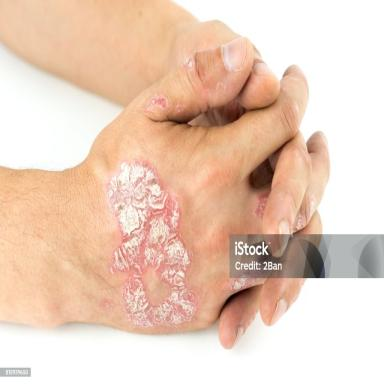Psoriasis: (106, 156, 199, 328), (145, 93, 169, 111), (253, 194, 268, 220), (231, 278, 257, 291), (174, 103, 186, 117), (183, 55, 194, 68), (101, 298, 113, 309)
